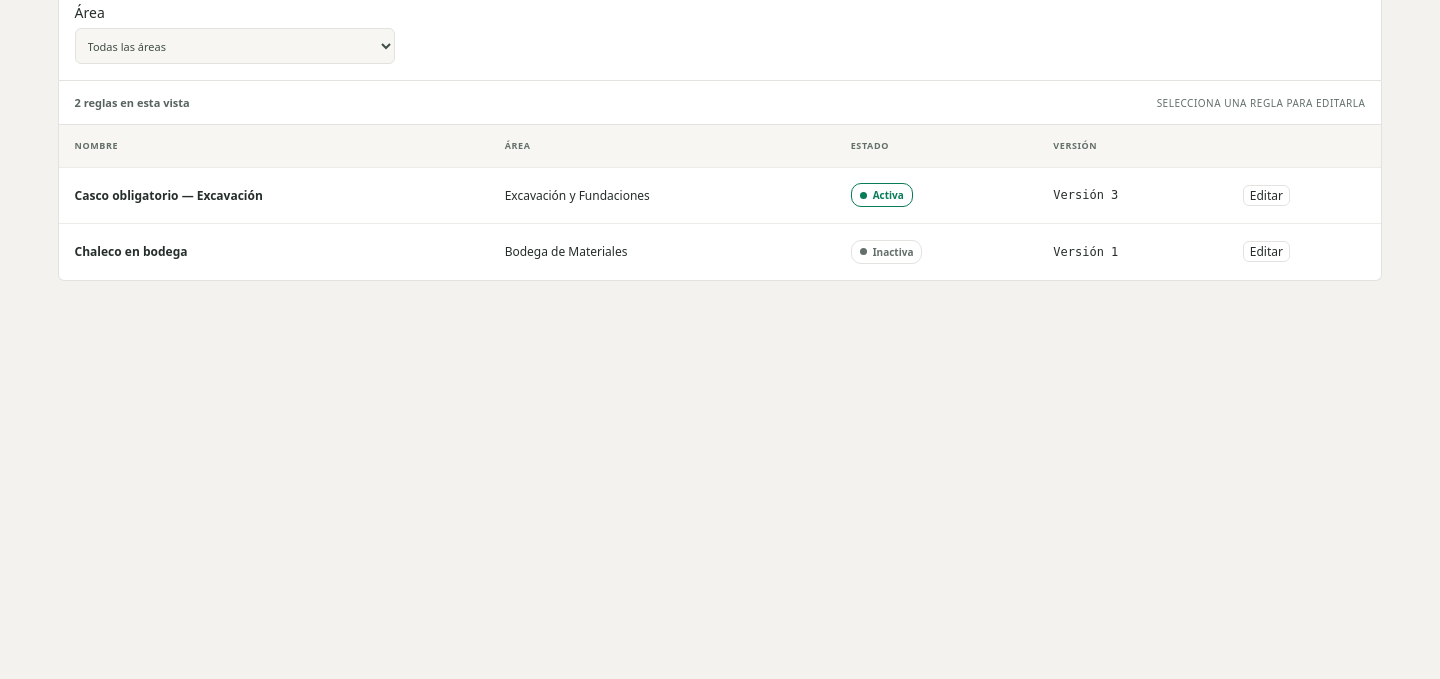
Test: limpia el resultado de simulación al cambiar de regla
This screenshot has width=1440, height=679.
Check: the table named "Listado de reglas de seguridad" is shown, box x1=59 y1=125 x2=1381 y2=280
Click the button "Editar" in the row of "Casco obligatorio — Excavación": (1266, 195) x1=1243 y1=185 x2=1290 y2=206
(page scrolled)
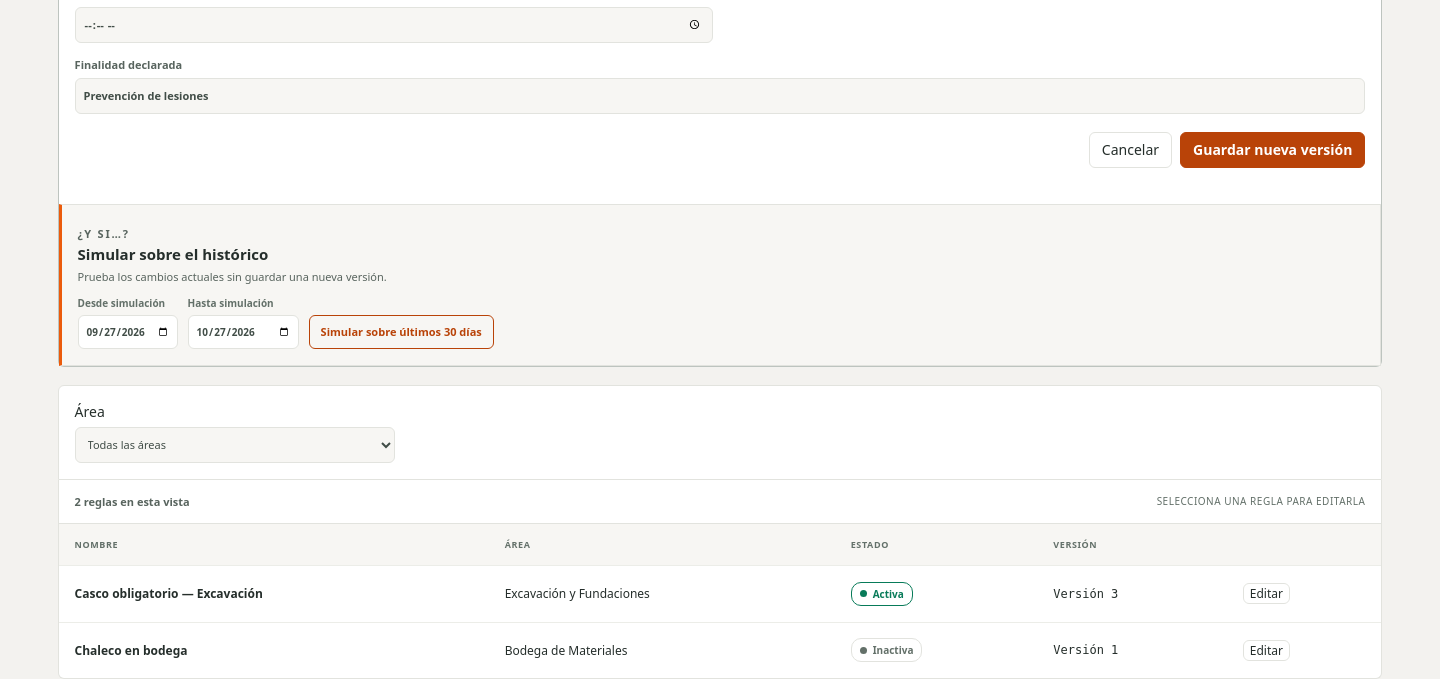
Click the button "Simular sobre últimos 30 días": (401, 332) x1=309 y1=315 x2=494 y2=349
(page scrolled)
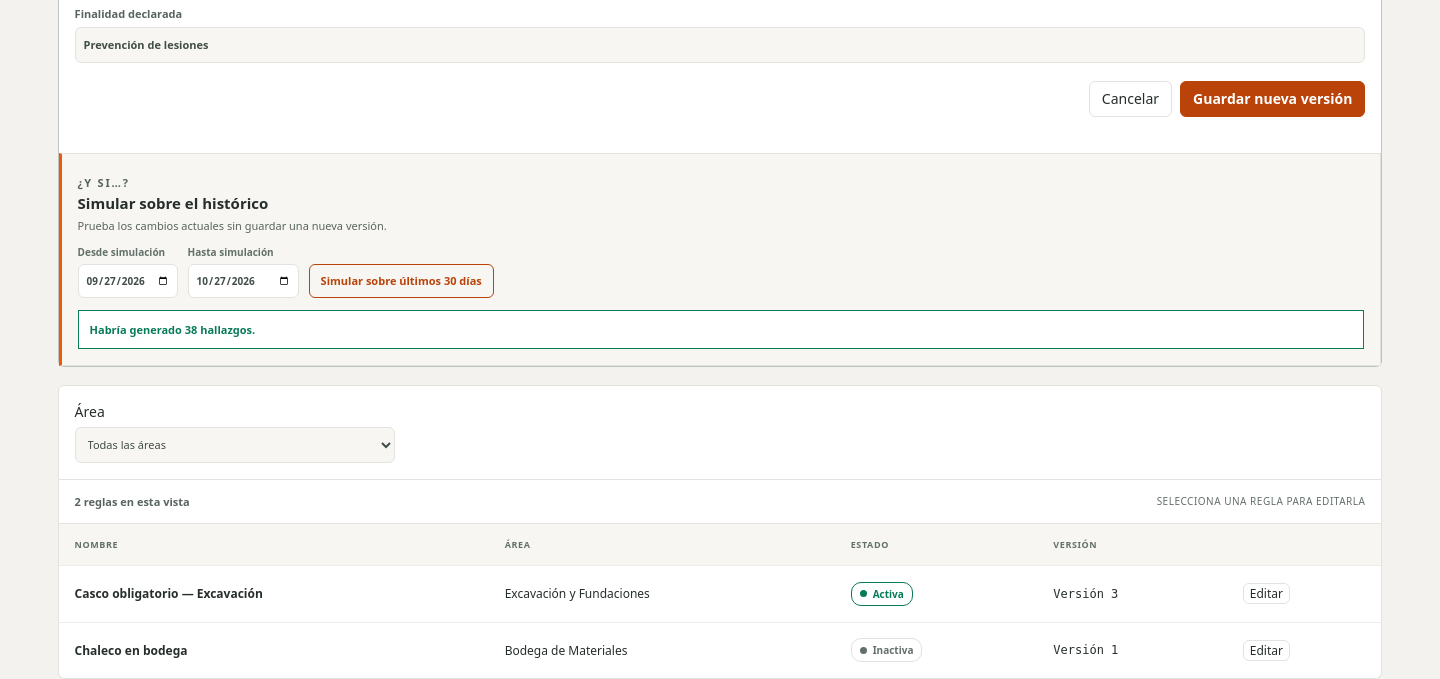
Check: the text "Habría generado 38 hallazgos." is shown, box x1=90 y1=322 x2=255 y2=337
Click the button "Editar" in the row of "Chaleco en bodega": (1266, 650) x1=1243 y1=640 x2=1290 y2=661
(page scrolled)
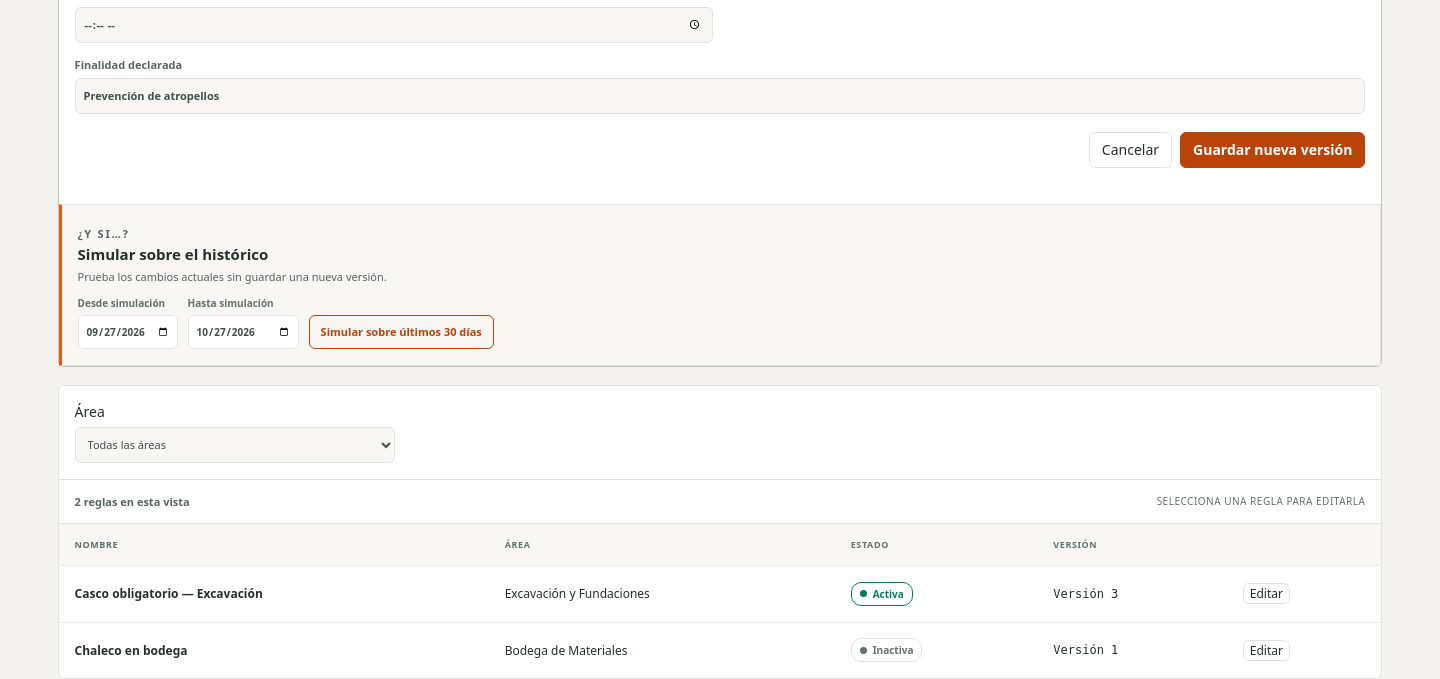
Check: the text "Habría generado 38 hallazgos." is gone
